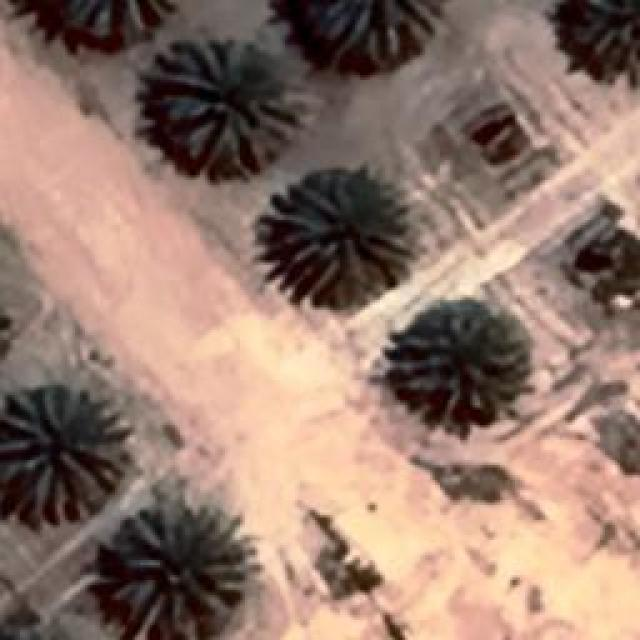PalmTree: (150, 32, 310, 172), (268, 170, 410, 308), (105, 507, 245, 635), (0, 382, 120, 520), (388, 305, 530, 420), (307, 0, 442, 62), (60, 0, 178, 38), (572, 0, 638, 65)
